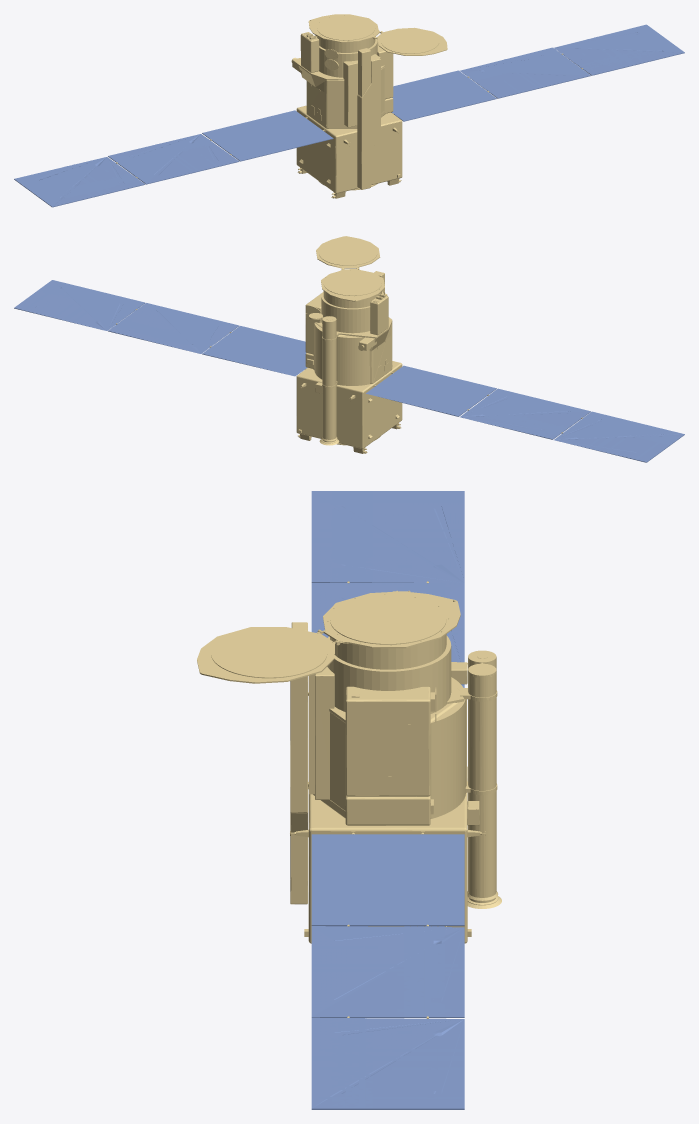
Rendered from hinode.glb.
3 renders of one model, top to bottom at view 1: azimuth 30°, elevation 25°; view 2: azimuth 150°, elevation 25°; view 3: azimuth 270°, elevation 25°, orthographic. The views are drawn at different scales.
Parts seen in each view (by area): view 1: solar, body; view 2: solar, body; view 3: solar, body.
Boxes of the visible parts, left/top/right/bottom form: solar: left=14, top=24, right=684, bottom=207; body: left=116, top=14, right=582, bottom=198; solar: left=14, top=280, right=684, bottom=462; body: left=116, top=236, right=582, bottom=453; solar: left=311, top=491, right=464, bottom=1109; body: left=197, top=581, right=501, bottom=1018.
Bounding box in the file's own units: 230 × 52.49 × 47.95.
